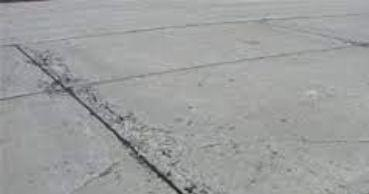crack: (6, 43, 188, 194)
